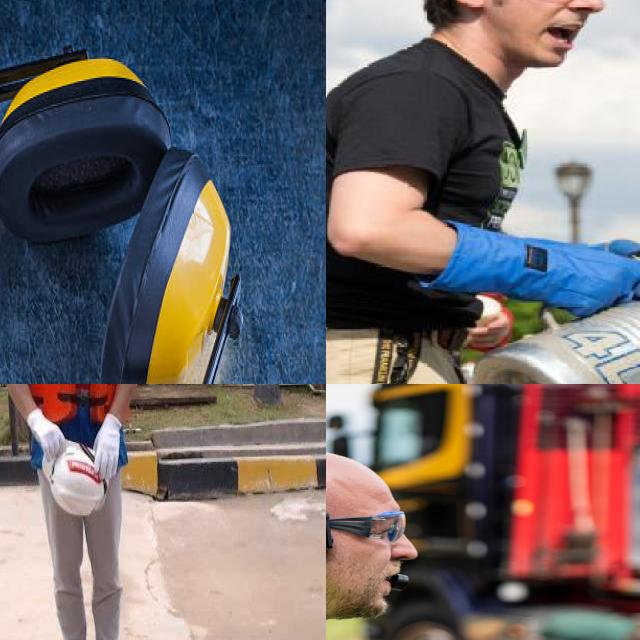Ear-protection: (0, 36, 258, 384)
No_Ear-Protection: (444, 0, 488, 10)
face_nomask: (531, 0, 602, 54)
glasses: (326, 511, 413, 545)
hand_glove: (573, 228, 640, 315)
head_helmet: (40, 441, 111, 517)
person: (326, 0, 640, 384), (0, 384, 171, 640), (326, 390, 467, 640)
vest: (22, 384, 130, 468)
